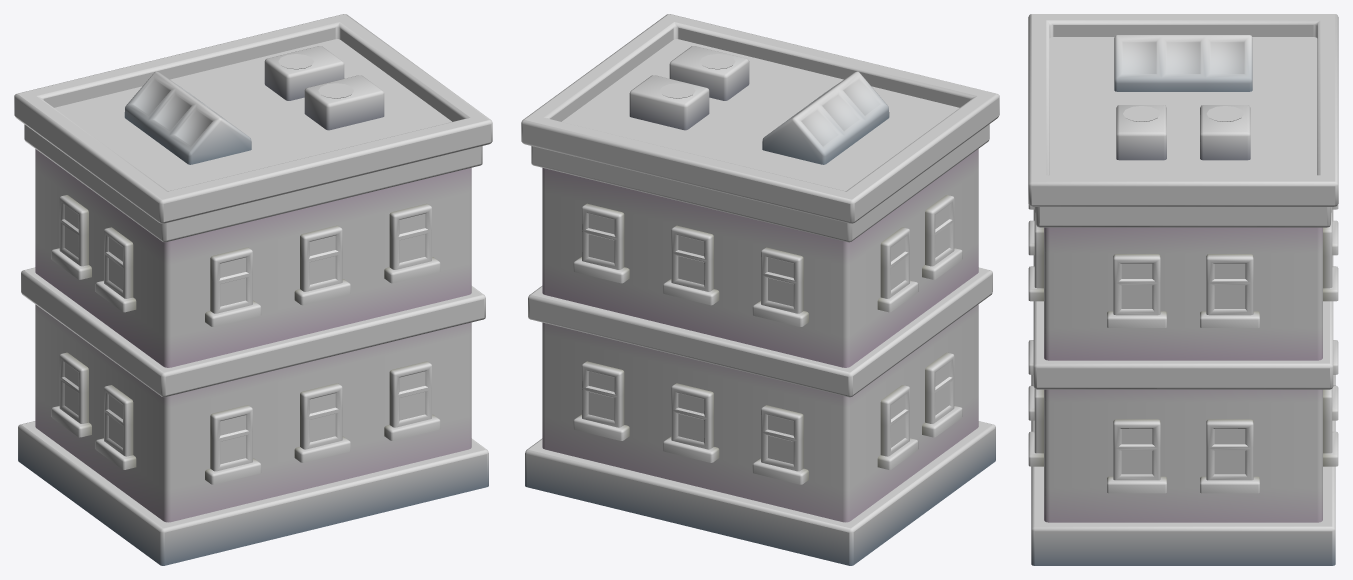
The model's file is NF_Bld_House 43.fbx.
The picture shows the model from 3 angles, left to right: view 1: azimuth 30°, elevation 25°; view 2: azimuth 150°, elevation 25°; view 3: azimuth 270°, elevation 25°; orthographic projection. The views are drawn at different scales.
Parts seen in each view (by area): view 1: House_43; view 2: House_43; view 3: House_43.
Boxes of the visible parts, <box> form: House_43: <box>14,14,492,565</box>; House_43: <box>521,14,999,565</box>; House_43: <box>1028,14,1338,565</box>.
Size of the model in its own units: 8.67 by 9.81 by 6.67.
